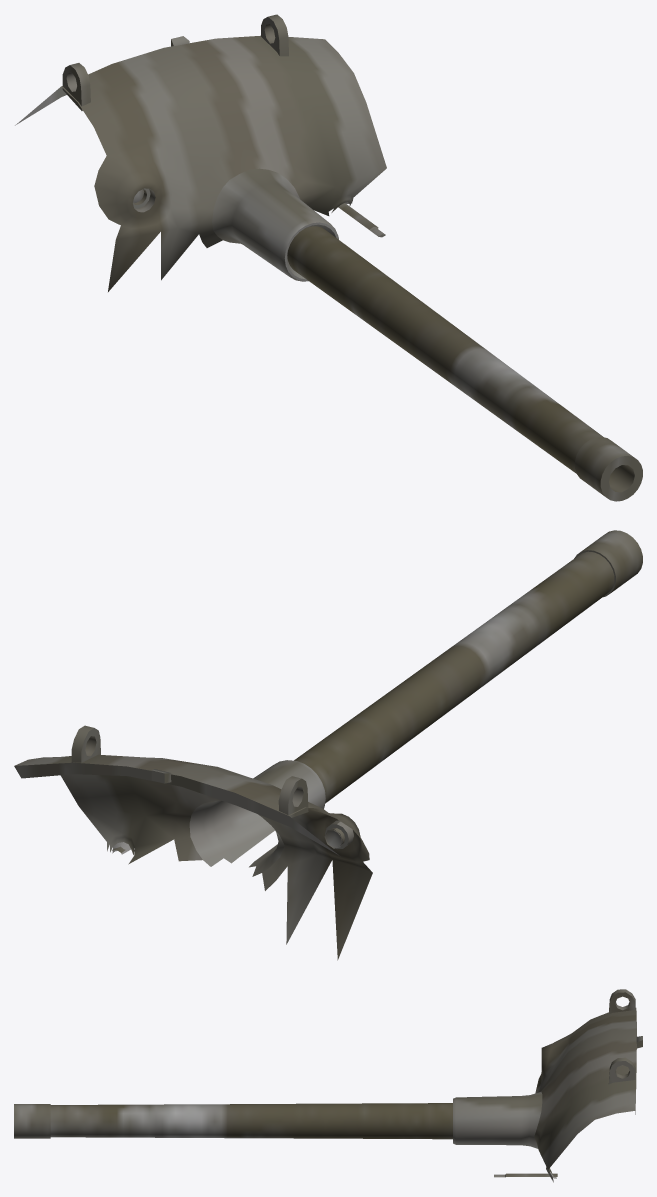
The model's file is chaffee_turret_m2.obj.
The picture shows the model from 3 angles, top to bottom: view 1: azimuth 30°, elevation 25°; view 2: azimuth 150°, elevation 25°; view 3: azimuth 270°, elevation 25°; orthographic projection. The views are drawn at different scales.
Visible parts, largest first — view 1: chaffee_turret_m2; view 2: chaffee_turret_m2; view 3: chaffee_turret_m2.
Part boxes in pixels (x1,y1,x2,y2): chaffee_turret_m2: (15,14,642,501); chaffee_turret_m2: (14,530,642,960); chaffee_turret_m2: (14,989,642,1182).
Bounding box in the file's own units: 0.8054 × 0.4912 × 1.99.
Materials: 1 (1 with a texture image).
